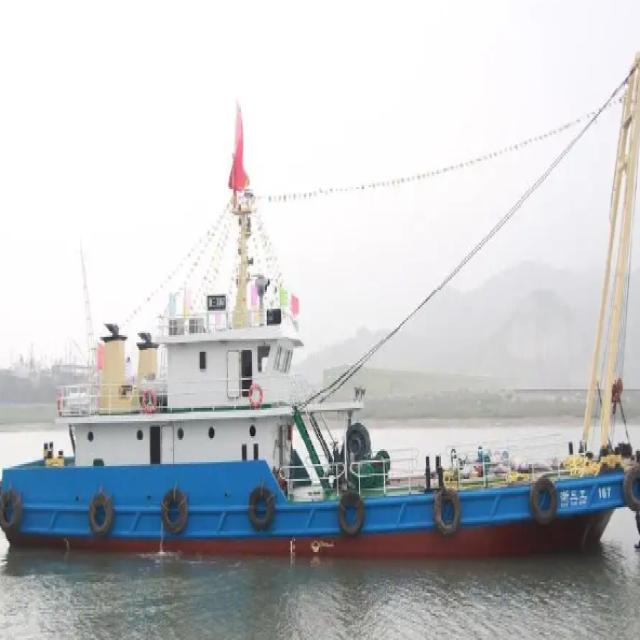fishing boat: (0, 157, 640, 569)
